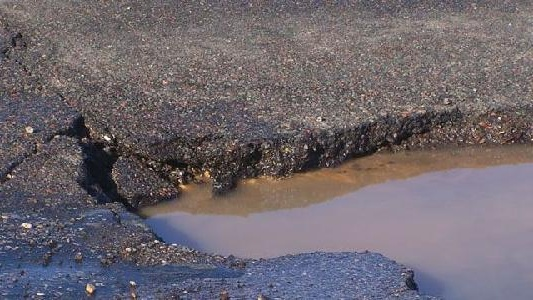pothole: (65, 100, 533, 300)
